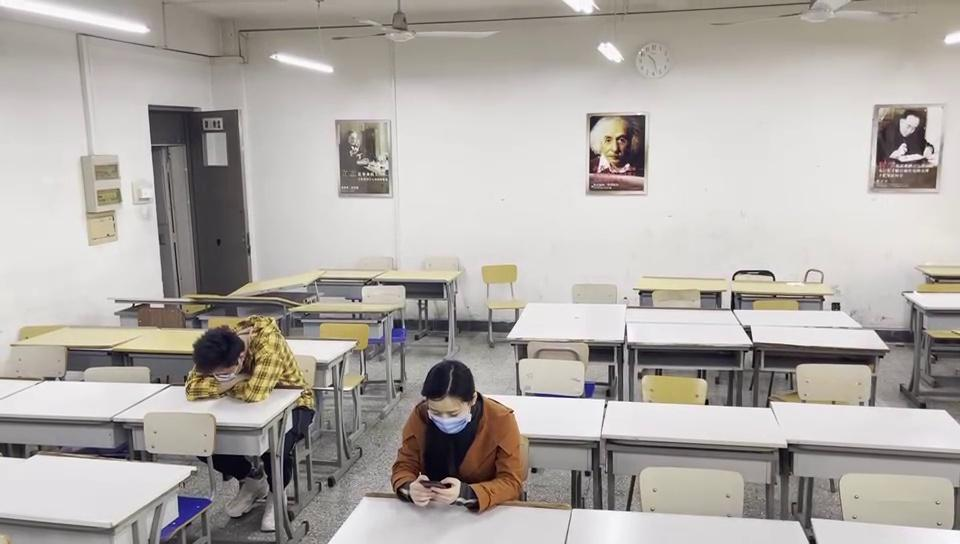phone: (388, 359, 521, 507)
sleep: (183, 313, 294, 399)
